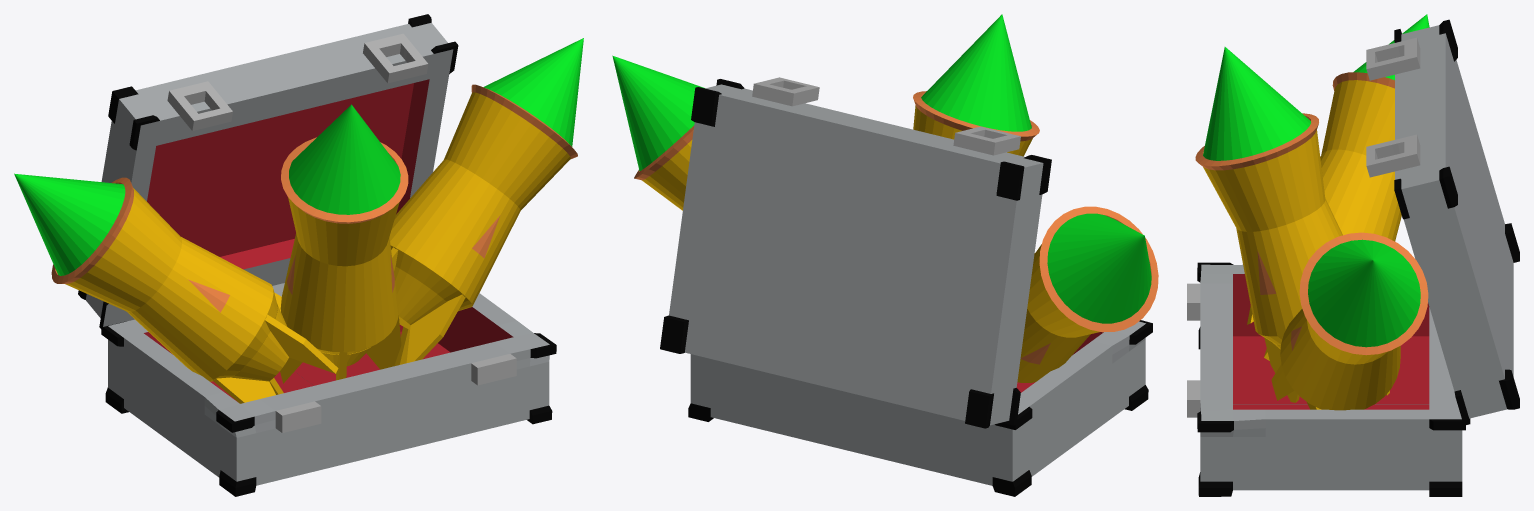
The model's file is Bullet Upgrade.fbx.
3 views of the same model, side by side, from view 1: azimuth 30°, elevation 25°; view 2: azimuth 150°, elevation 25°; view 3: azimuth 270°, elevation 25° (orthographic). The views are drawn at different scales.
Parts seen in each view (by area): view 1: Body.001, Body, Half Lid.001, Half Case.001, Body.002, Half Lid, Half Case, Wing, Wing.001, Wing(3).001, Wing.002; view 2: Half Lid.001, Half Lid, Half Case.001, Body.001, Half Case, Body.002, Body; view 3: Half Case, Half Lid, Body.002, Body, Half Lid.001, Body.001, Half Case.001, Wing, Wing(3).002.
Boxes of the visible parts, x1,y1,x2,y2 form: Body.001: [14, 173, 288, 381]; Body: [389, 38, 583, 329]; Half Lid.001: [78, 57, 296, 328]; Half Case.001: [101, 319, 392, 496]; Body.002: [280, 104, 408, 366]; Half Lid: [255, 14, 458, 285]; Half Case: [272, 283, 556, 452]; Wing: [406, 294, 465, 362]; Wing.001: [265, 314, 338, 373]; Wing(3).001: [212, 377, 275, 403]; Wing.002: [366, 315, 401, 369]; Half Lid.001: [825, 123, 1051, 428]; Half Lid: [660, 77, 884, 386]; Half Case.001: [851, 320, 1152, 496]; Body.001: [1017, 206, 1158, 382]; Half Case: [688, 354, 851, 451]; Body.002: [913, 14, 1039, 156]; Body: [612, 55, 704, 210]; Half Case: [1187, 341, 1465, 496]; Half Lid: [1366, 101, 1519, 424]; Body.002: [1195, 47, 1342, 349]; Body: [1280, 232, 1428, 410]; Half Lid.001: [1366, 19, 1519, 329]; Body.001: [1320, 14, 1429, 241]; Half Case.001: [1187, 262, 1439, 404]; Wing: [1271, 364, 1294, 400]; Wing(3).002: [1264, 338, 1299, 402].
Size of the model in its own units: 4.87 by 2.54 by 3.01.
